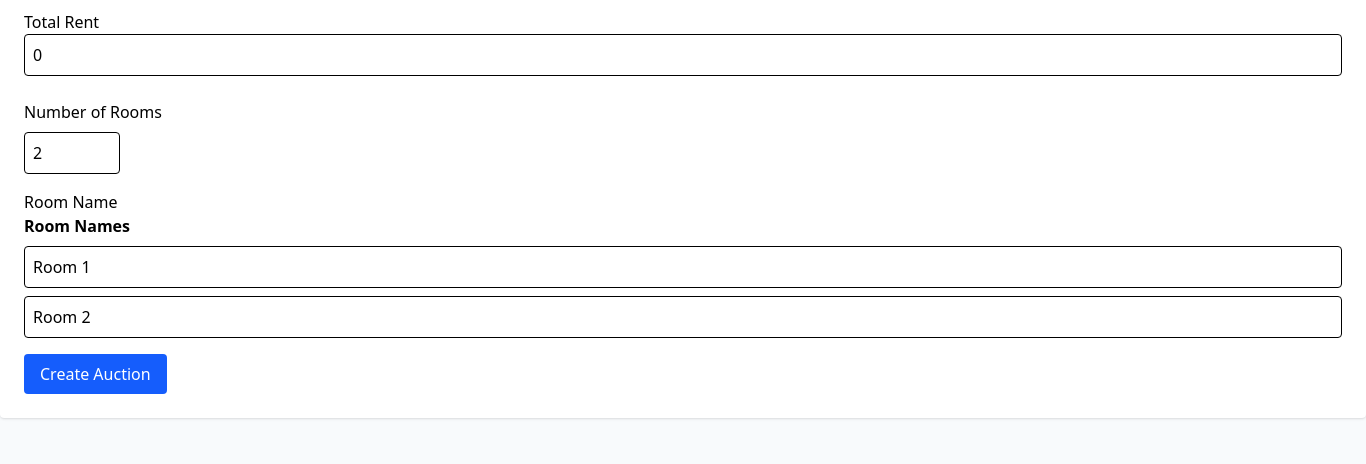
user tries to create a room › should display an error message when an invalid rent is provided
Step 1. Click the button "Create Auction" → (95, 374), box x1=24 y1=354 x2=167 y2=394
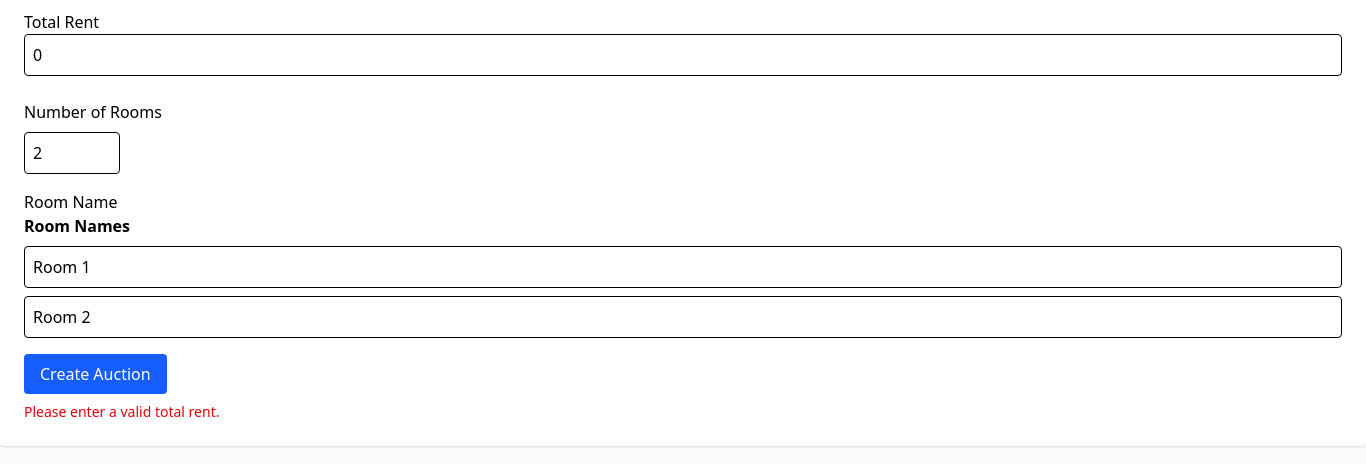
Expected: the text "Please enter a valid total rent." is shown, x1=24 y1=402 x2=220 y2=421
